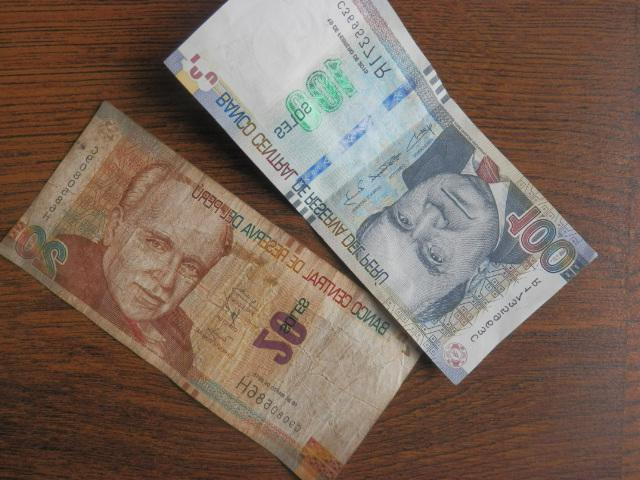B100: (219, 1, 599, 271)
B20: (1, 204, 367, 480)
